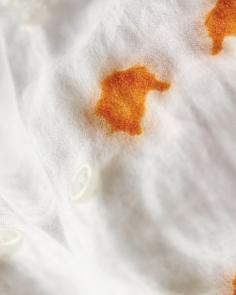stain: (85, 60, 176, 141), (197, 1, 236, 58)
